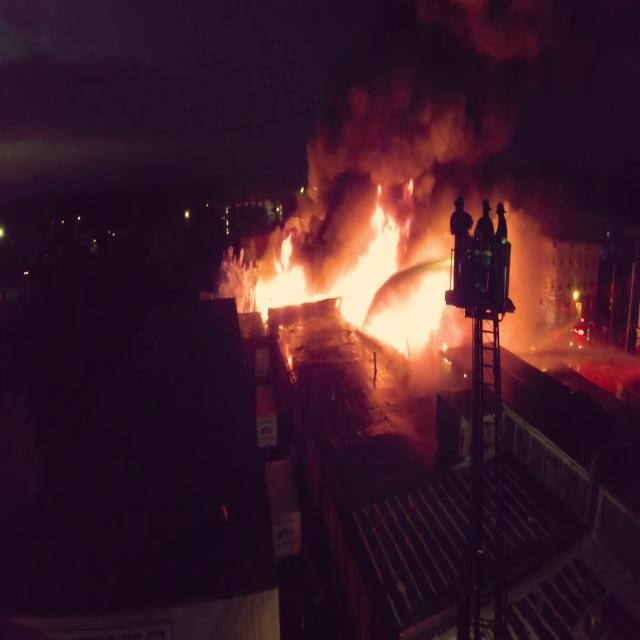Fire: (251, 232, 448, 362)
Smoke: (282, 7, 640, 250)
